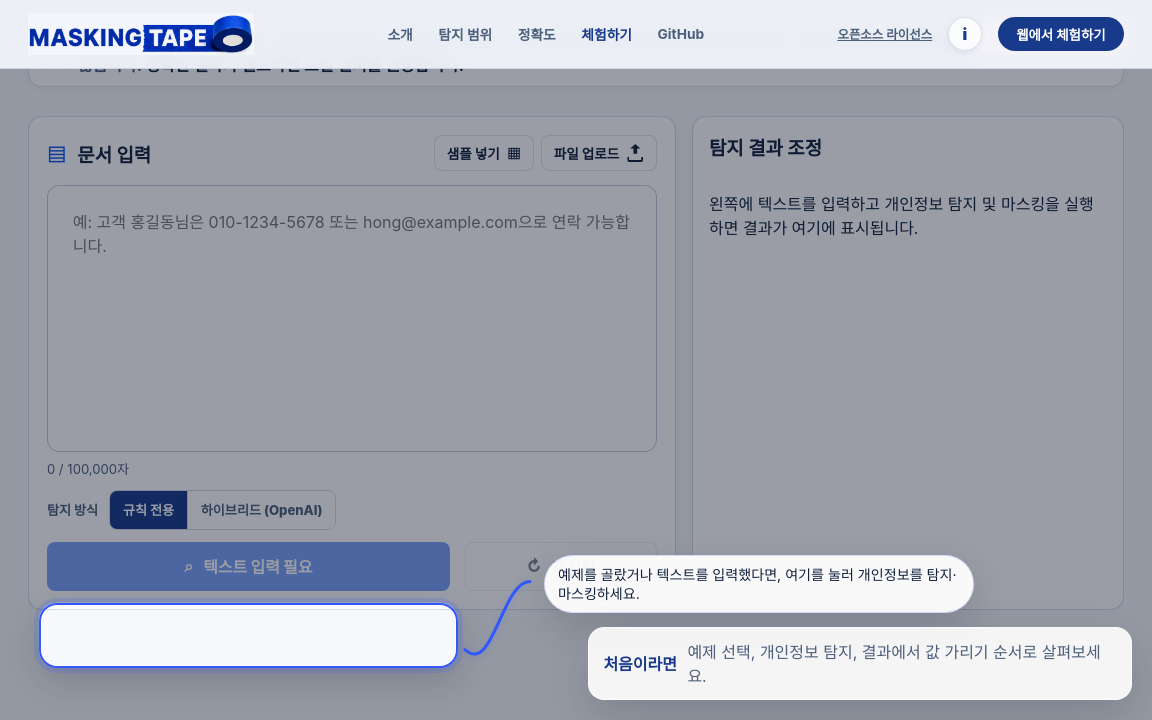
Test: DemoPage result coachmark (#299) › opens the result coachmark (not the intro one) from the help button while a result is showing
This screenshot has width=1152, height=720.
(page scrolled)
Press Escape
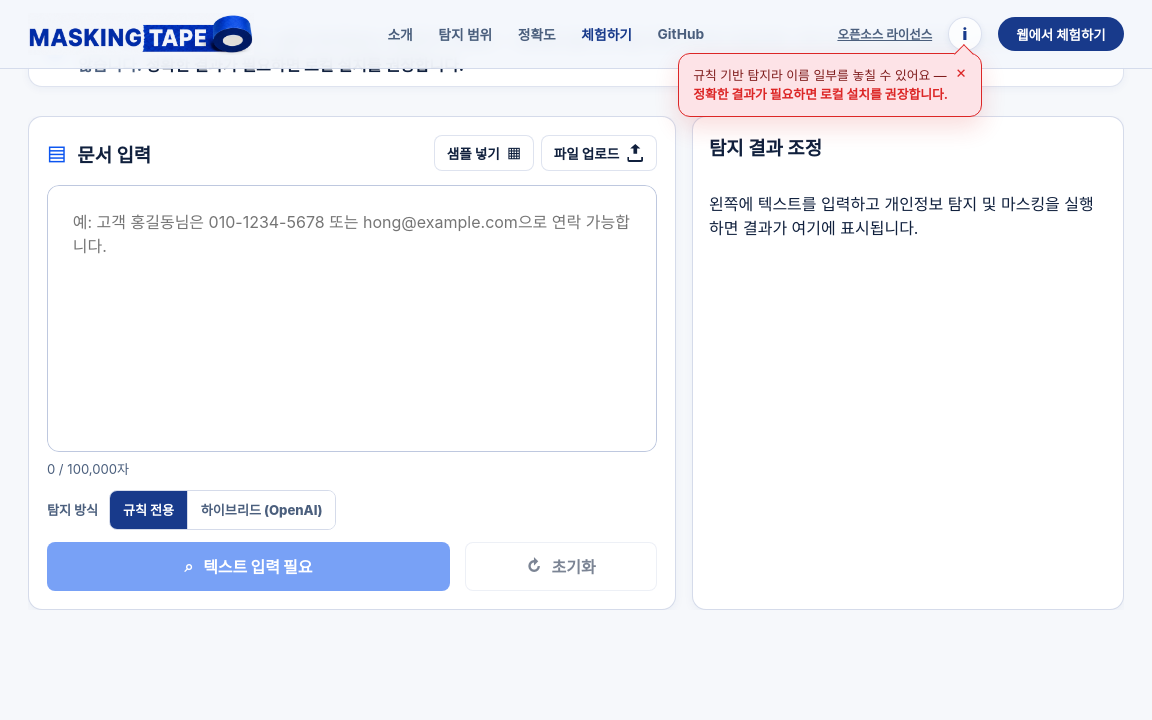
Type "김철수 010-1234-5678" into the text box named "탐지할 텍스트 입력". click: (352,318)
box: [47, 185, 657, 452]
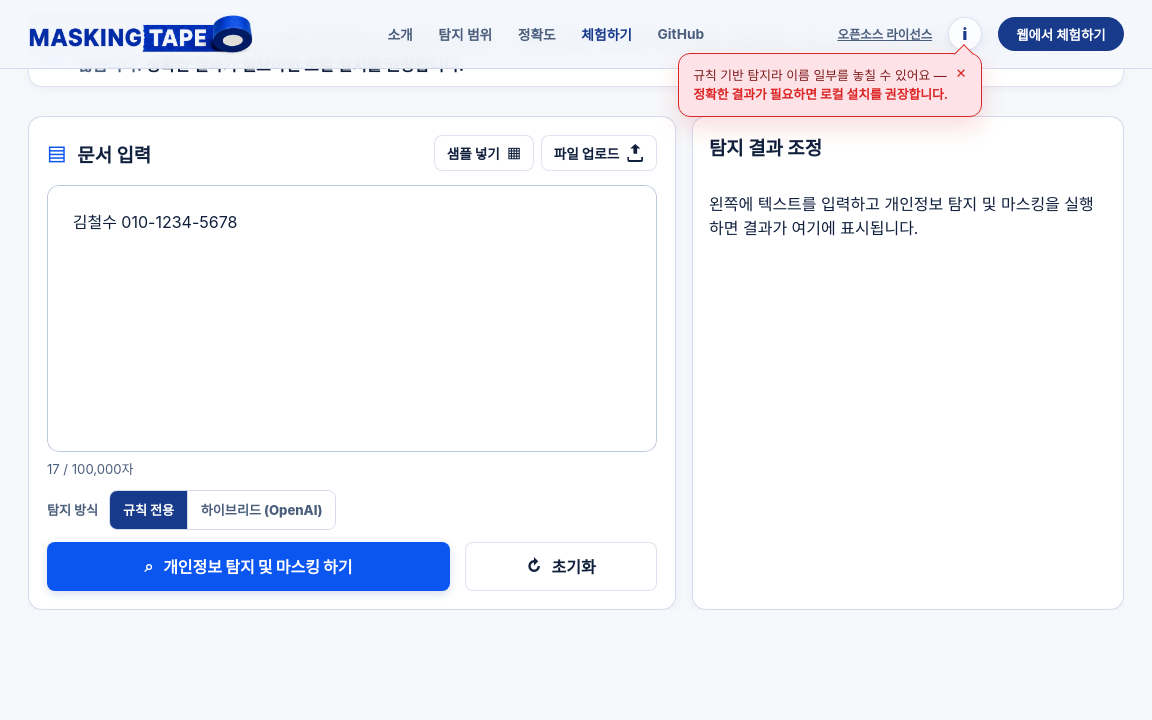
Click the button "⌕ 개인정보 탐지 및 마스킹 하기". click: (248,566)
box: [47, 542, 450, 591]
(page scrolled)
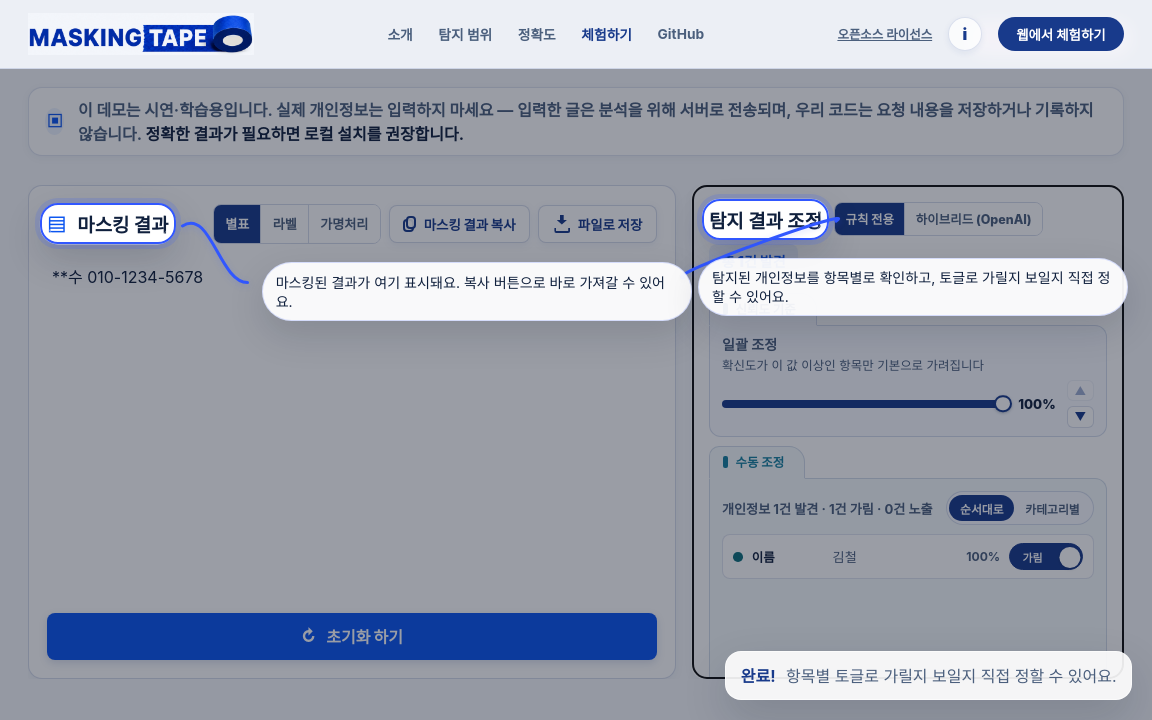
Expected: the dialog is shown
Press Escape
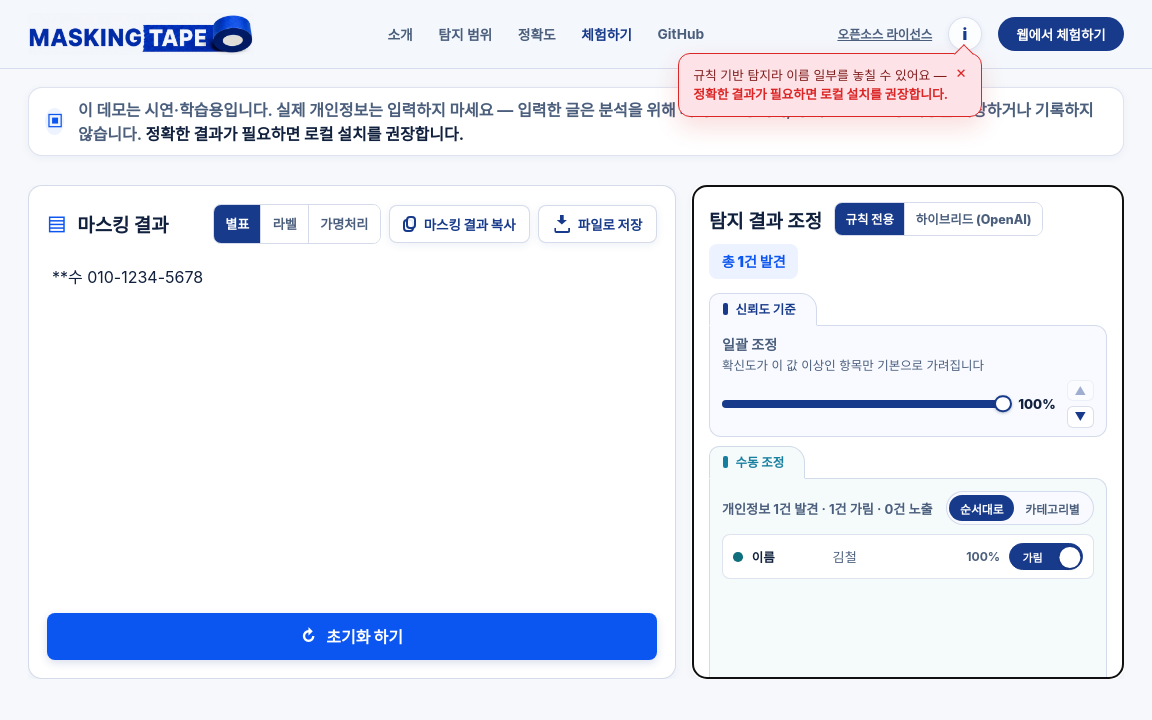
Expected: the dialog is gone
Click the button named "사용 안내 다시 보기". click: (965,34)
box: [948, 17, 982, 51]
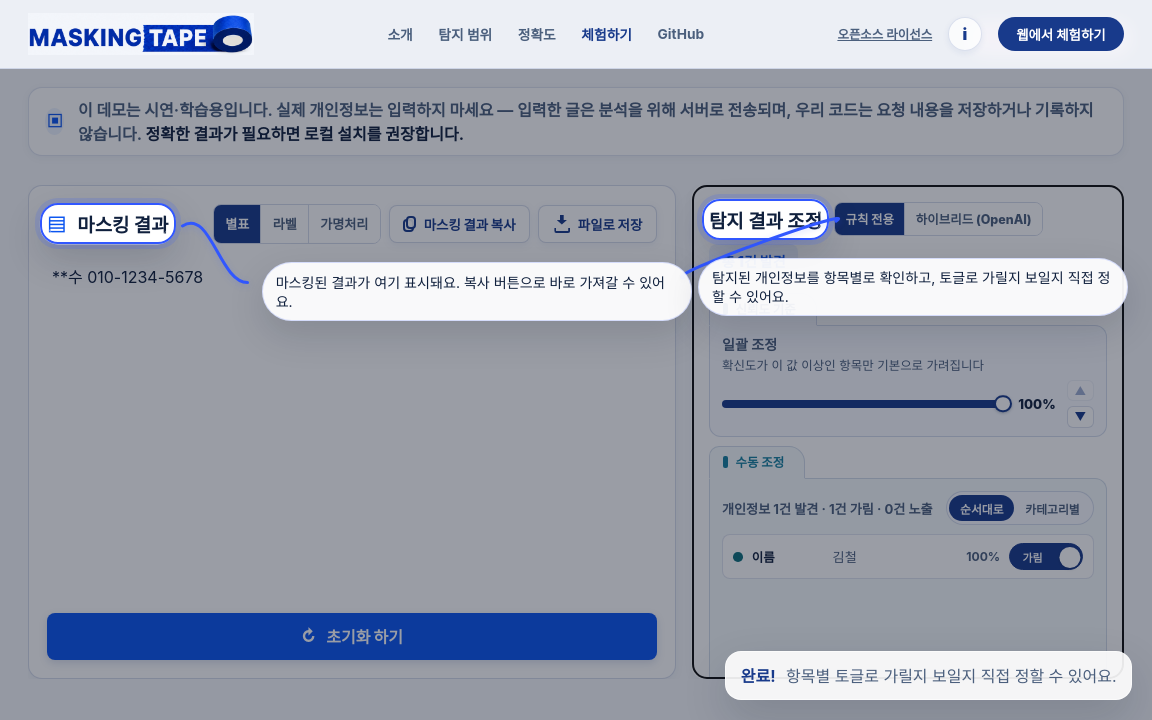
Expected: the dialog named "사용 방법 안내" shows "완료!", [741, 666, 776, 686]
